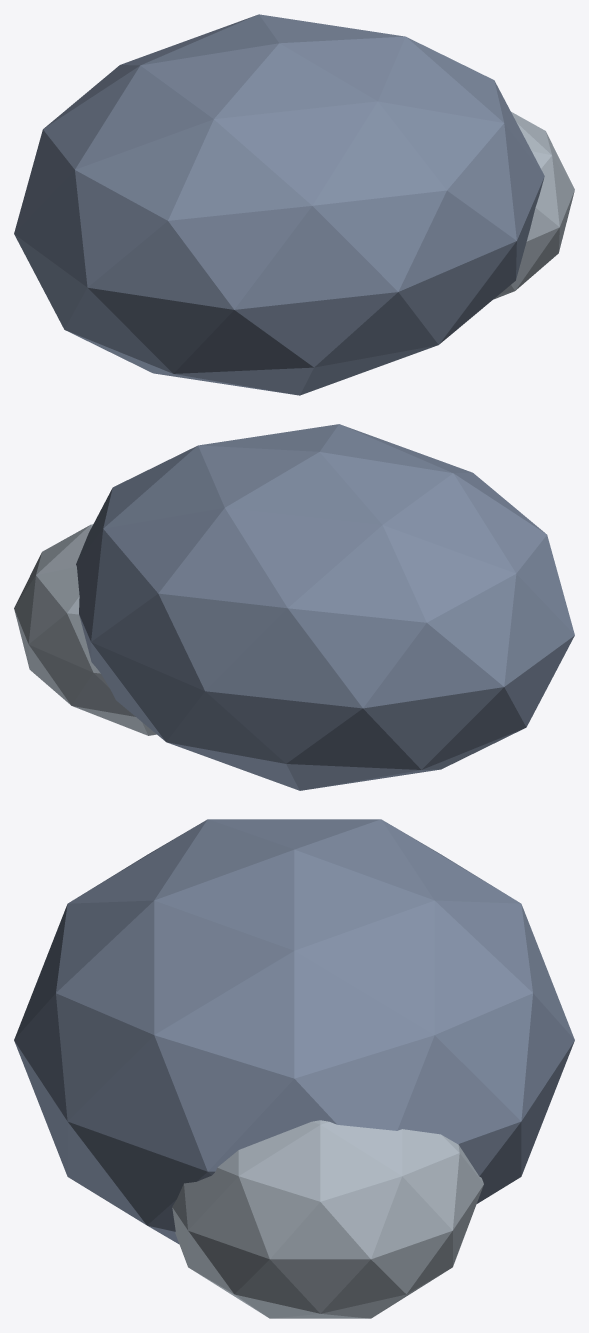
The model's file is Surfing_Rock.fbx.
3 views of the same model, one above another, from view 1: azimuth 30°, elevation 25°; view 2: azimuth 150°, elevation 25°; view 3: azimuth 270°, elevation 25° (orthographic). The views are drawn at different scales.
Visible parts, largest first — view 1: Rock; view 2: Rock; view 3: Rock.
Boxes of the visible parts, x1,y1,x2,y2 form: Rock: (14, 14, 574, 395); Rock: (14, 424, 574, 790); Rock: (14, 819, 574, 1318).
Size of the model in its own units: 2.69 by 1.62 by 2.16.
